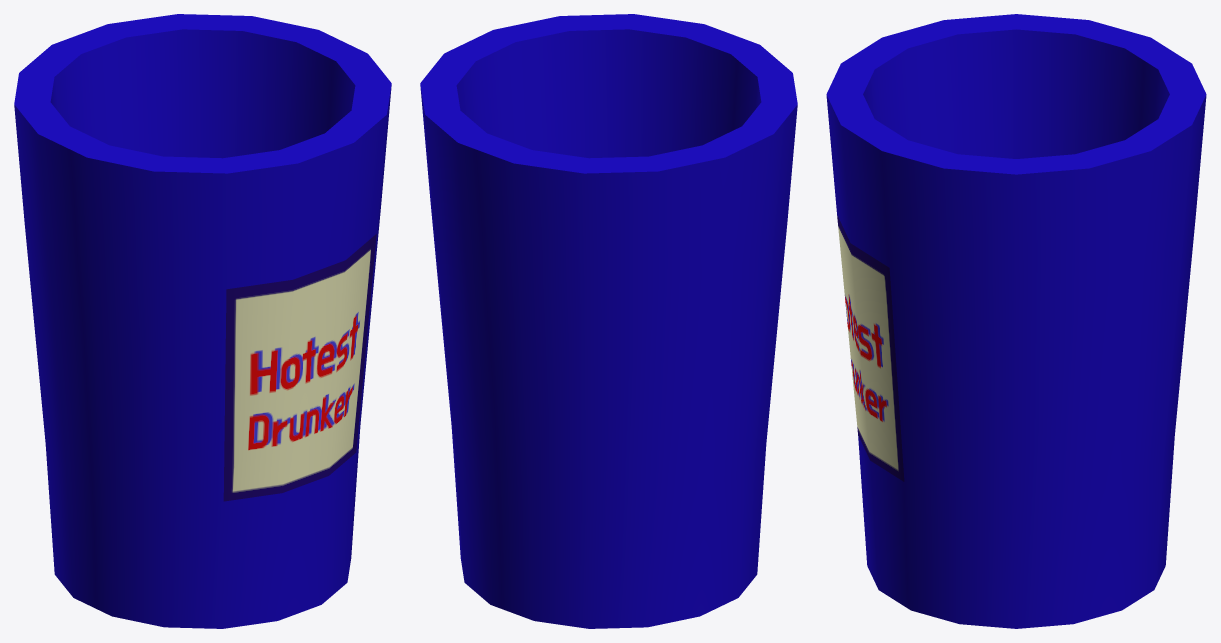
The model's file is Cup_1.fbx.
3 views of the same model, side by side, from view 1: azimuth 30°, elevation 25°; view 2: azimuth 150°, elevation 25°; view 3: azimuth 270°, elevation 25° (orthographic).
Visible parts, largest first — view 1: pCylinder3; view 2: pCylinder3; view 3: pCylinder3.
Part boxes in pixels (x1,y1,x2,y2): pCylinder3: (14, 14, 391, 628); pCylinder3: (420, 14, 797, 628); pCylinder3: (826, 14, 1206, 628).
Size of the model in its own units: 0.7497 by 1.03 by 0.7497.
Materials: 2 (2 with a texture image).
